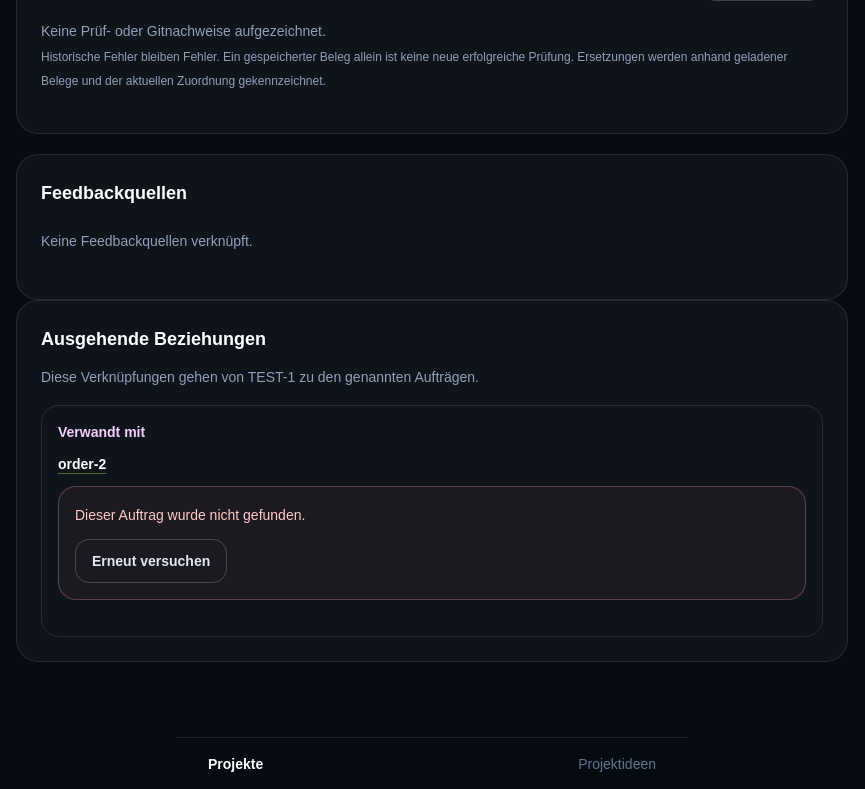
LUUFI-9 Aufträge und Spezifikationen lesen › stellt eine fehlgeschlagene Beziehungsauflösung separat wieder her
(page scrolled)
Expected: the message shows "nicht gefunden", [75,507,305,523]
Click the button "Erneut versuchen" at (151, 561), box [75,539,227,583]
(page scrolled)
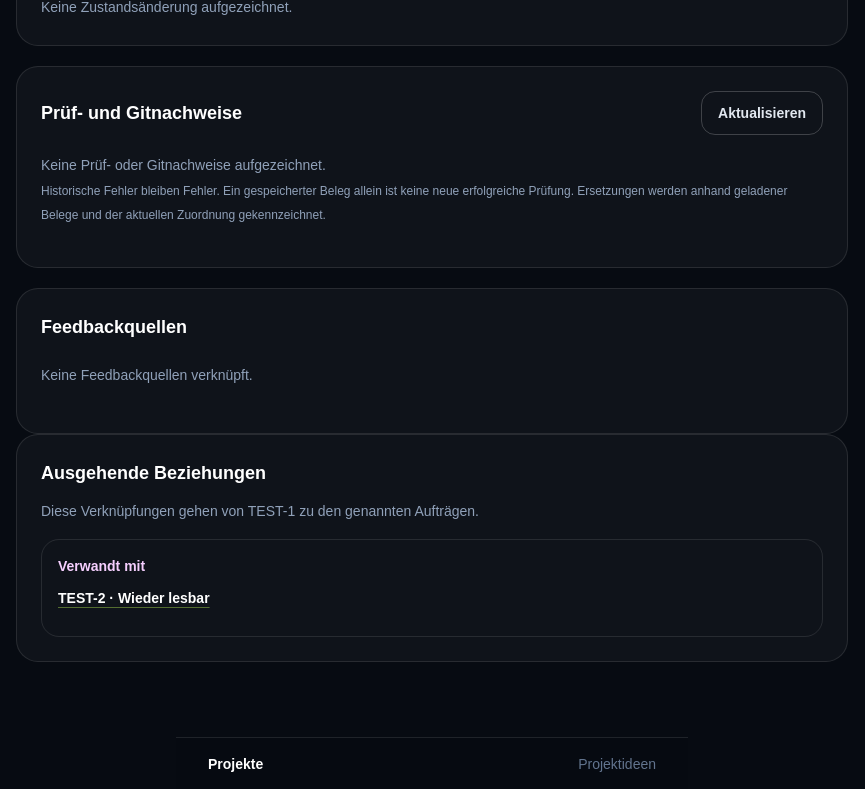
Expected: the link "TEST-2 · Wieder lesbar" is shown, [58,590,210,606]
